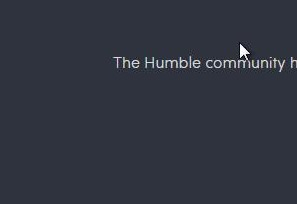cursor: (238, 42, 250, 60)
